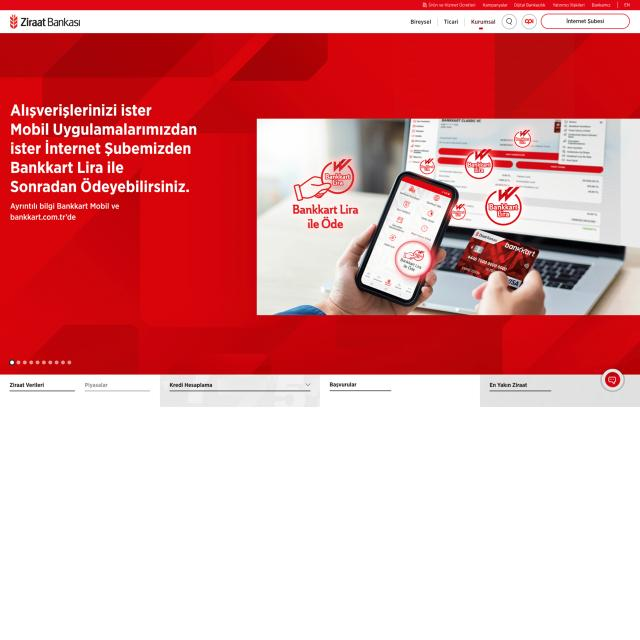CheckBox: (541, 13, 630, 30), (521, 13, 537, 30), (502, 14, 516, 29)
alert: (168, 380, 313, 395)
bag: (0, 0, 640, 34)
card: (0, 34, 639, 374)
carousel: (504, 17, 514, 27)
date picker: (9, 12, 86, 30)
decoration: (407, 13, 501, 32), (420, 1, 640, 9)
